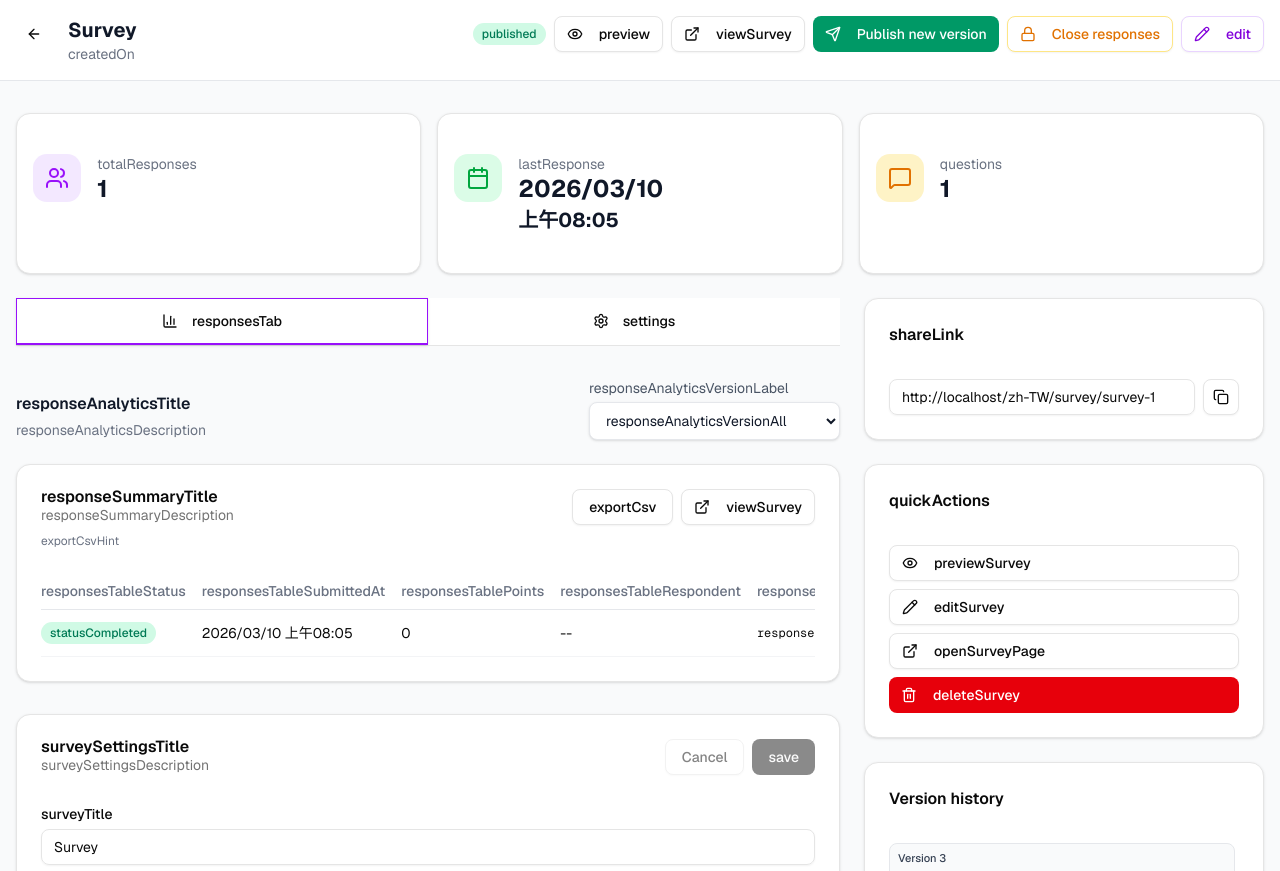
Test: SurveyManagementPage publish new version › publishes a new version and reloads versions after success
What coordinates should you click on to do the following:
click the button "Publish new version"
I would click on:
 (906, 34)
Its box is x1=813 y1=16 x2=999 y2=52.
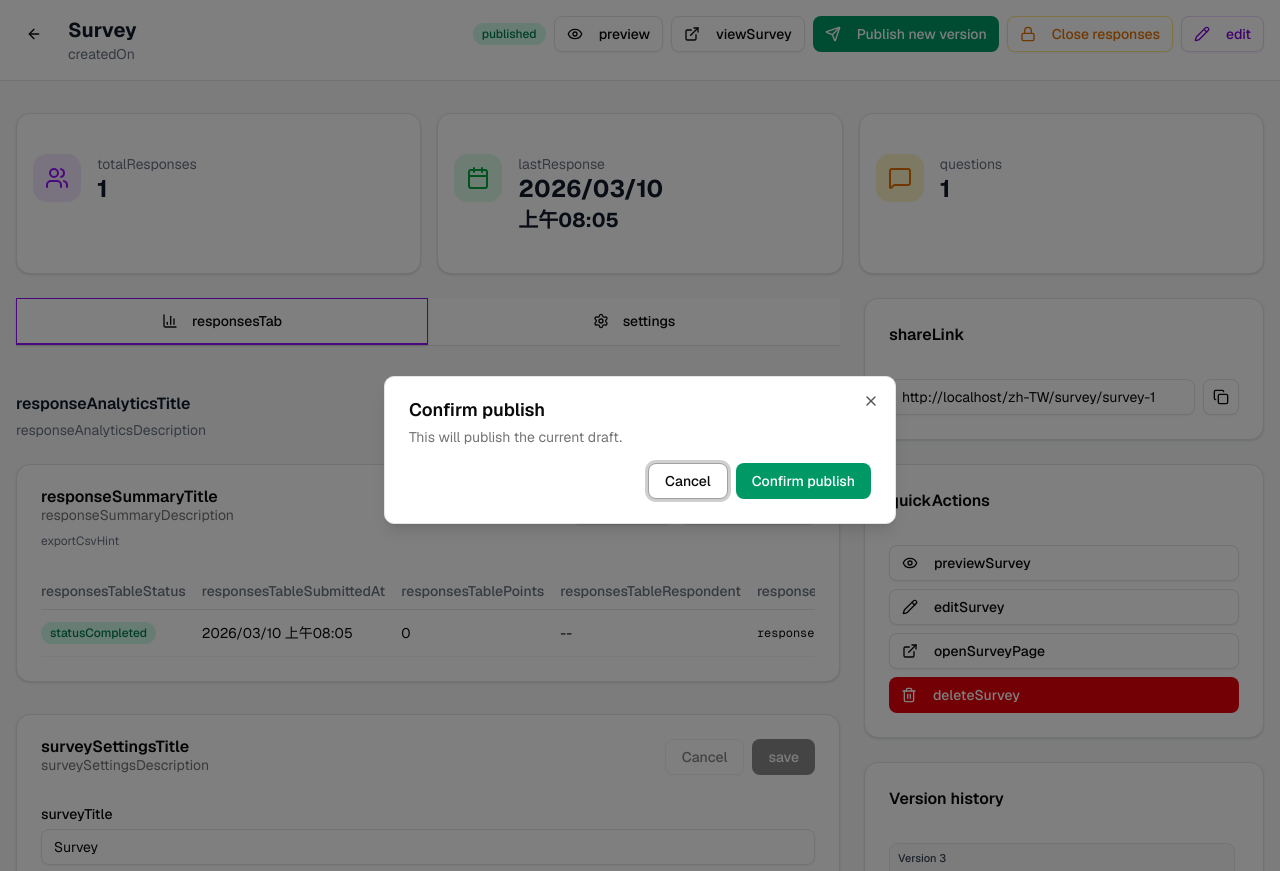
Now the button "Confirm publish" is shown
What coordinates should you click on to do the following:
click the button "Confirm publish"
I would click on:
 (803, 481)
Its box is x1=736 y1=463 x2=871 y2=499.
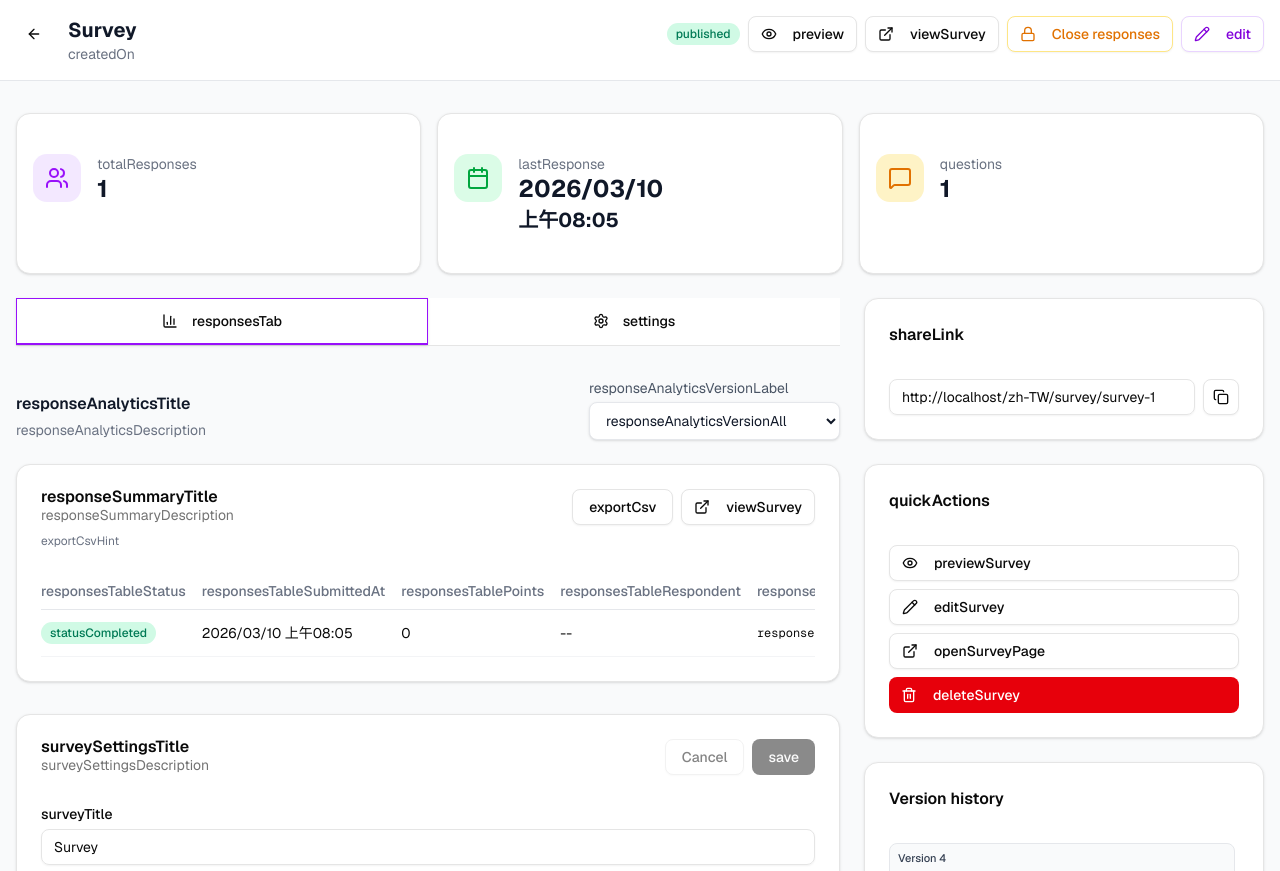
Now the button "Publish new version" is gone
